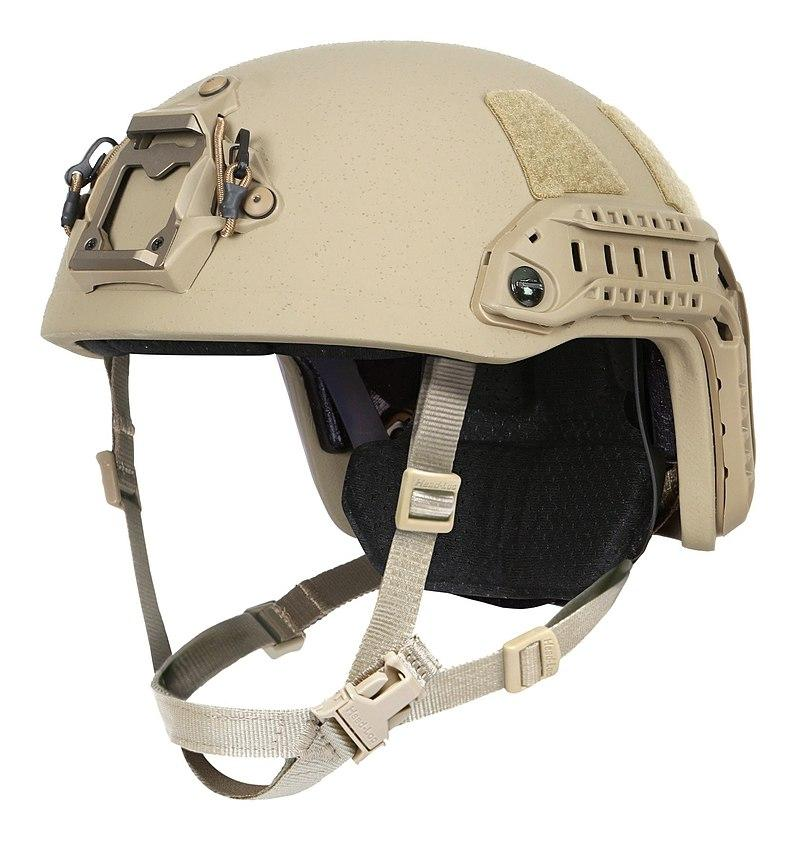helmet: (43, 43, 753, 548)
